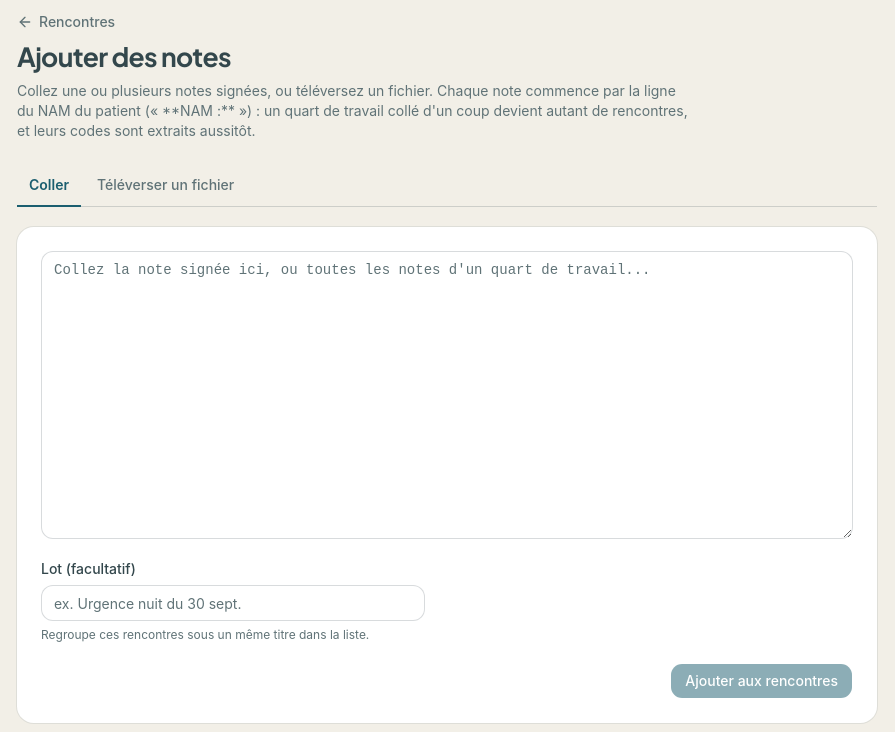
Scenario: uploading a file › keeps the pasted text when switching tabs back
This screenshot has width=895, height=732.
Type "ma note" into the text box named "Notes à ajouter" at (447, 395), box [41,251,853,539]
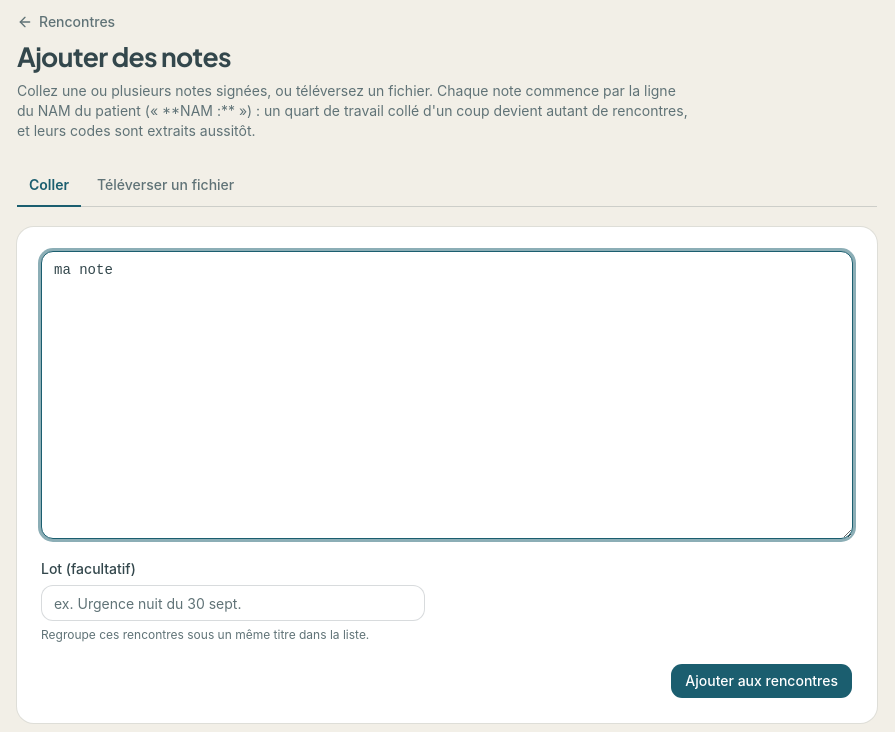
Click the tab "Téléverser un fichier" at (166, 186), box [85,165,246,207]
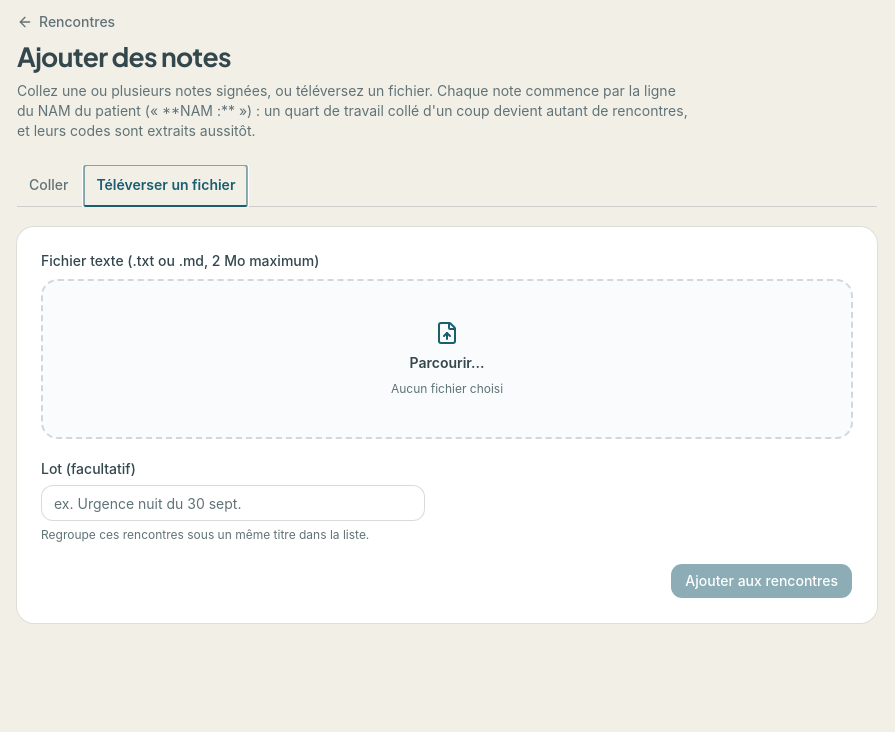
Click the tab "Coller" at (49, 186), box [17,165,80,207]
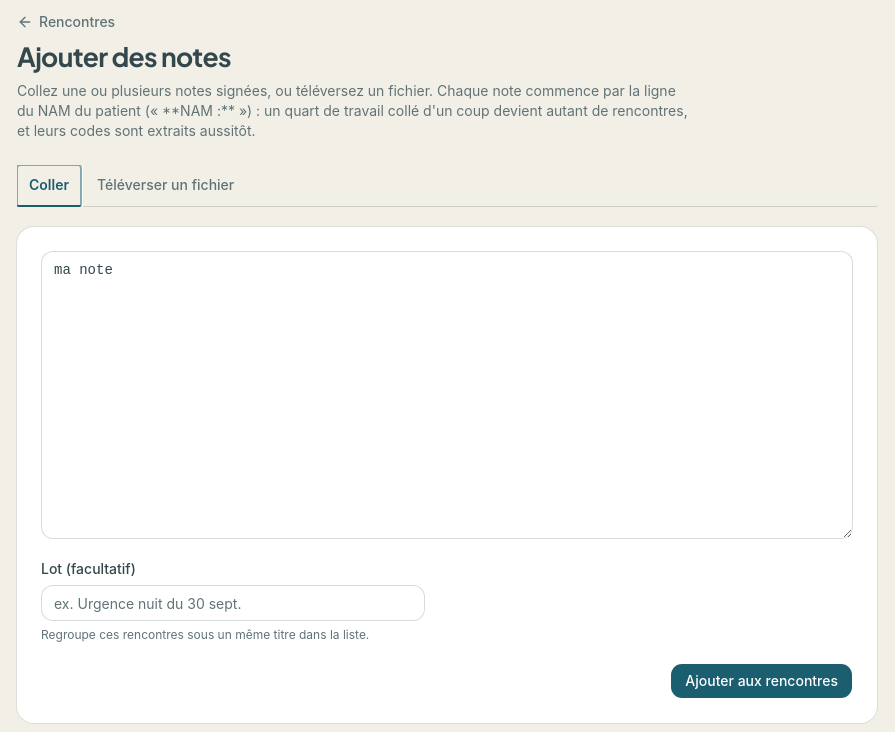
expect the text box named "Notes à ajouter" holds "ma note": met, box [41,251,853,539]
